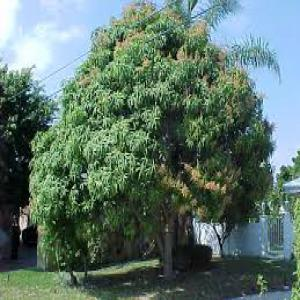Tree: (27, 3, 272, 274)
